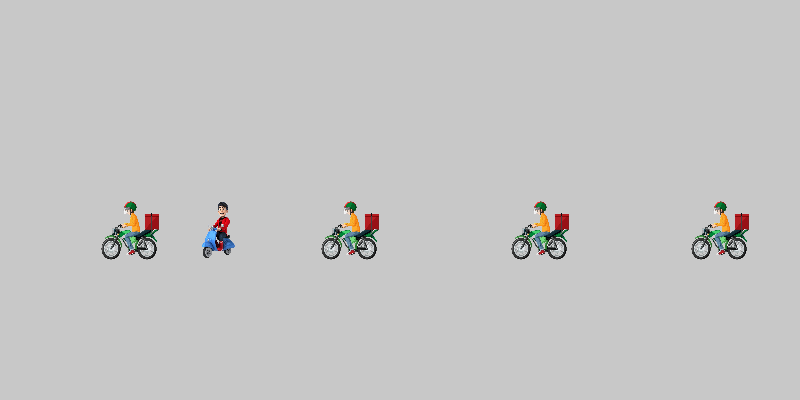helmet: (100, 200, 160, 260), (320, 200, 380, 260), (510, 200, 570, 260), (690, 200, 750, 260)
no_helmet: (190, 200, 250, 260)
